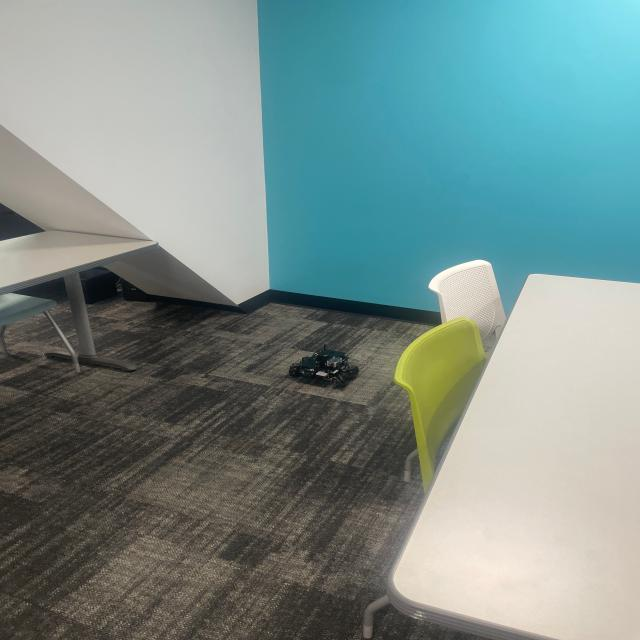ArduinoCar3: (286, 346, 362, 393)
